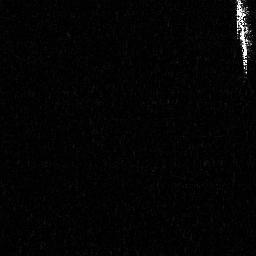ship: (229, 1, 255, 83)
